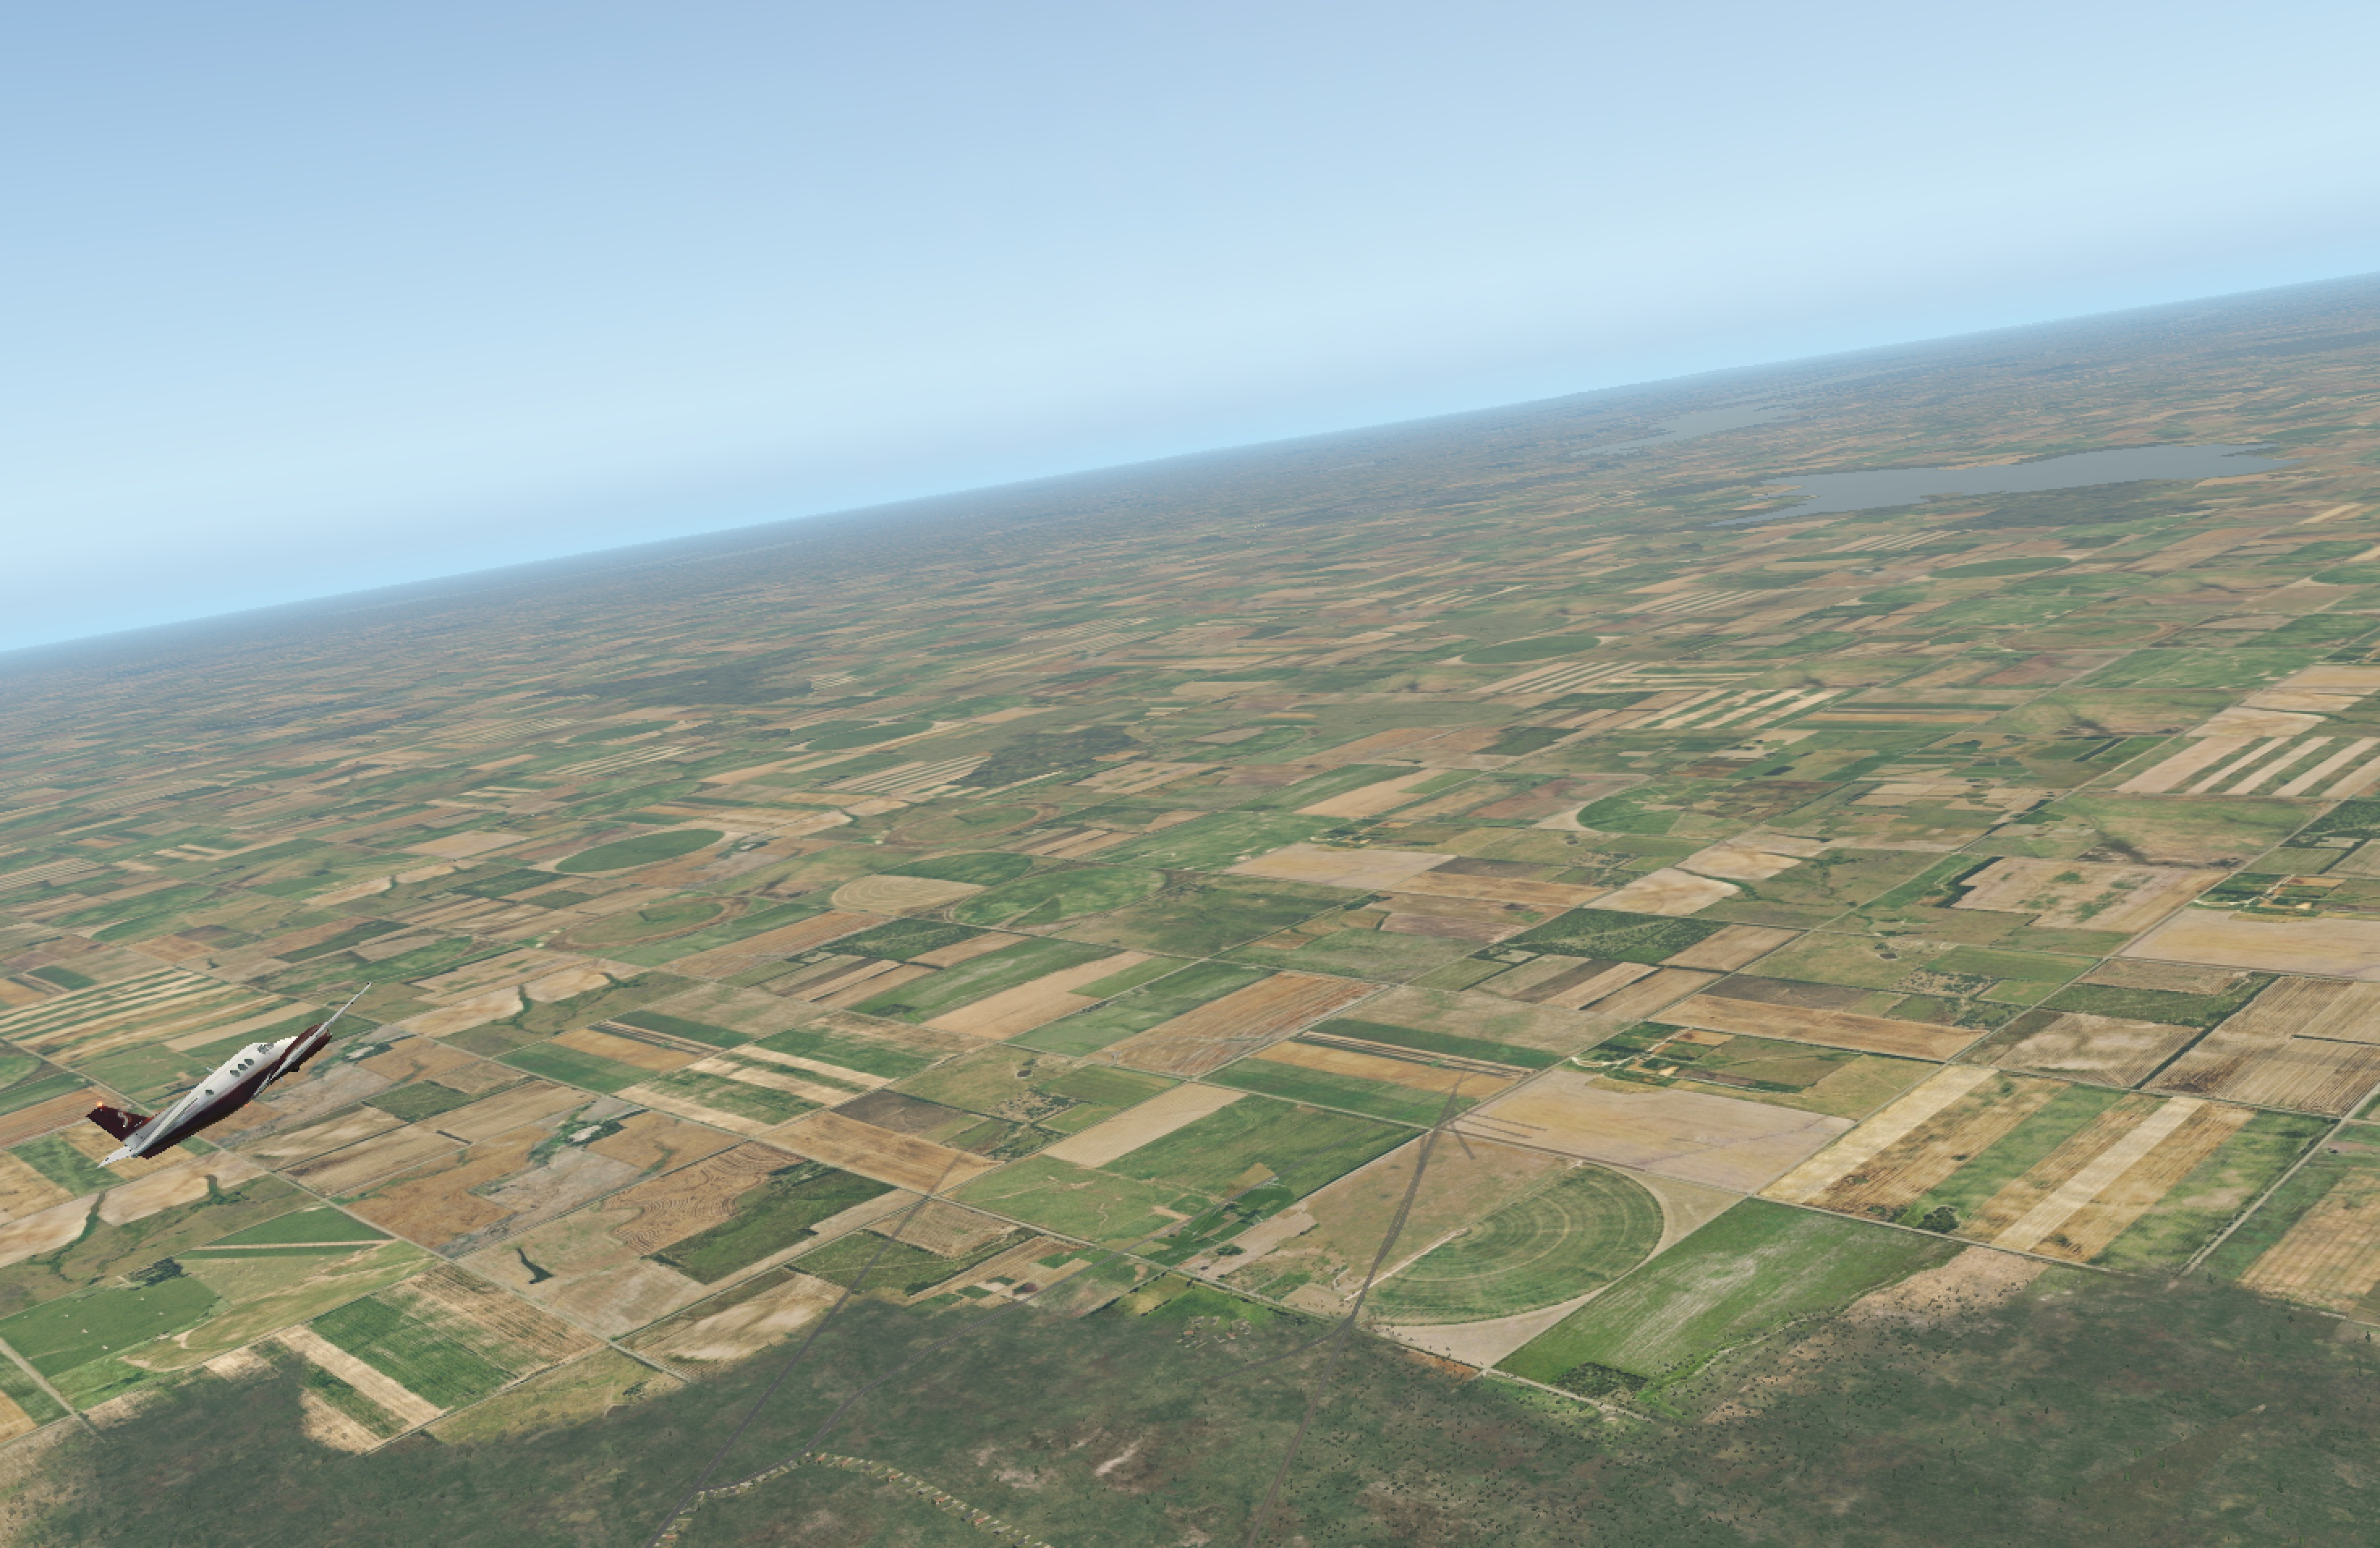aircraft: (87, 1020, 439, 1152)
